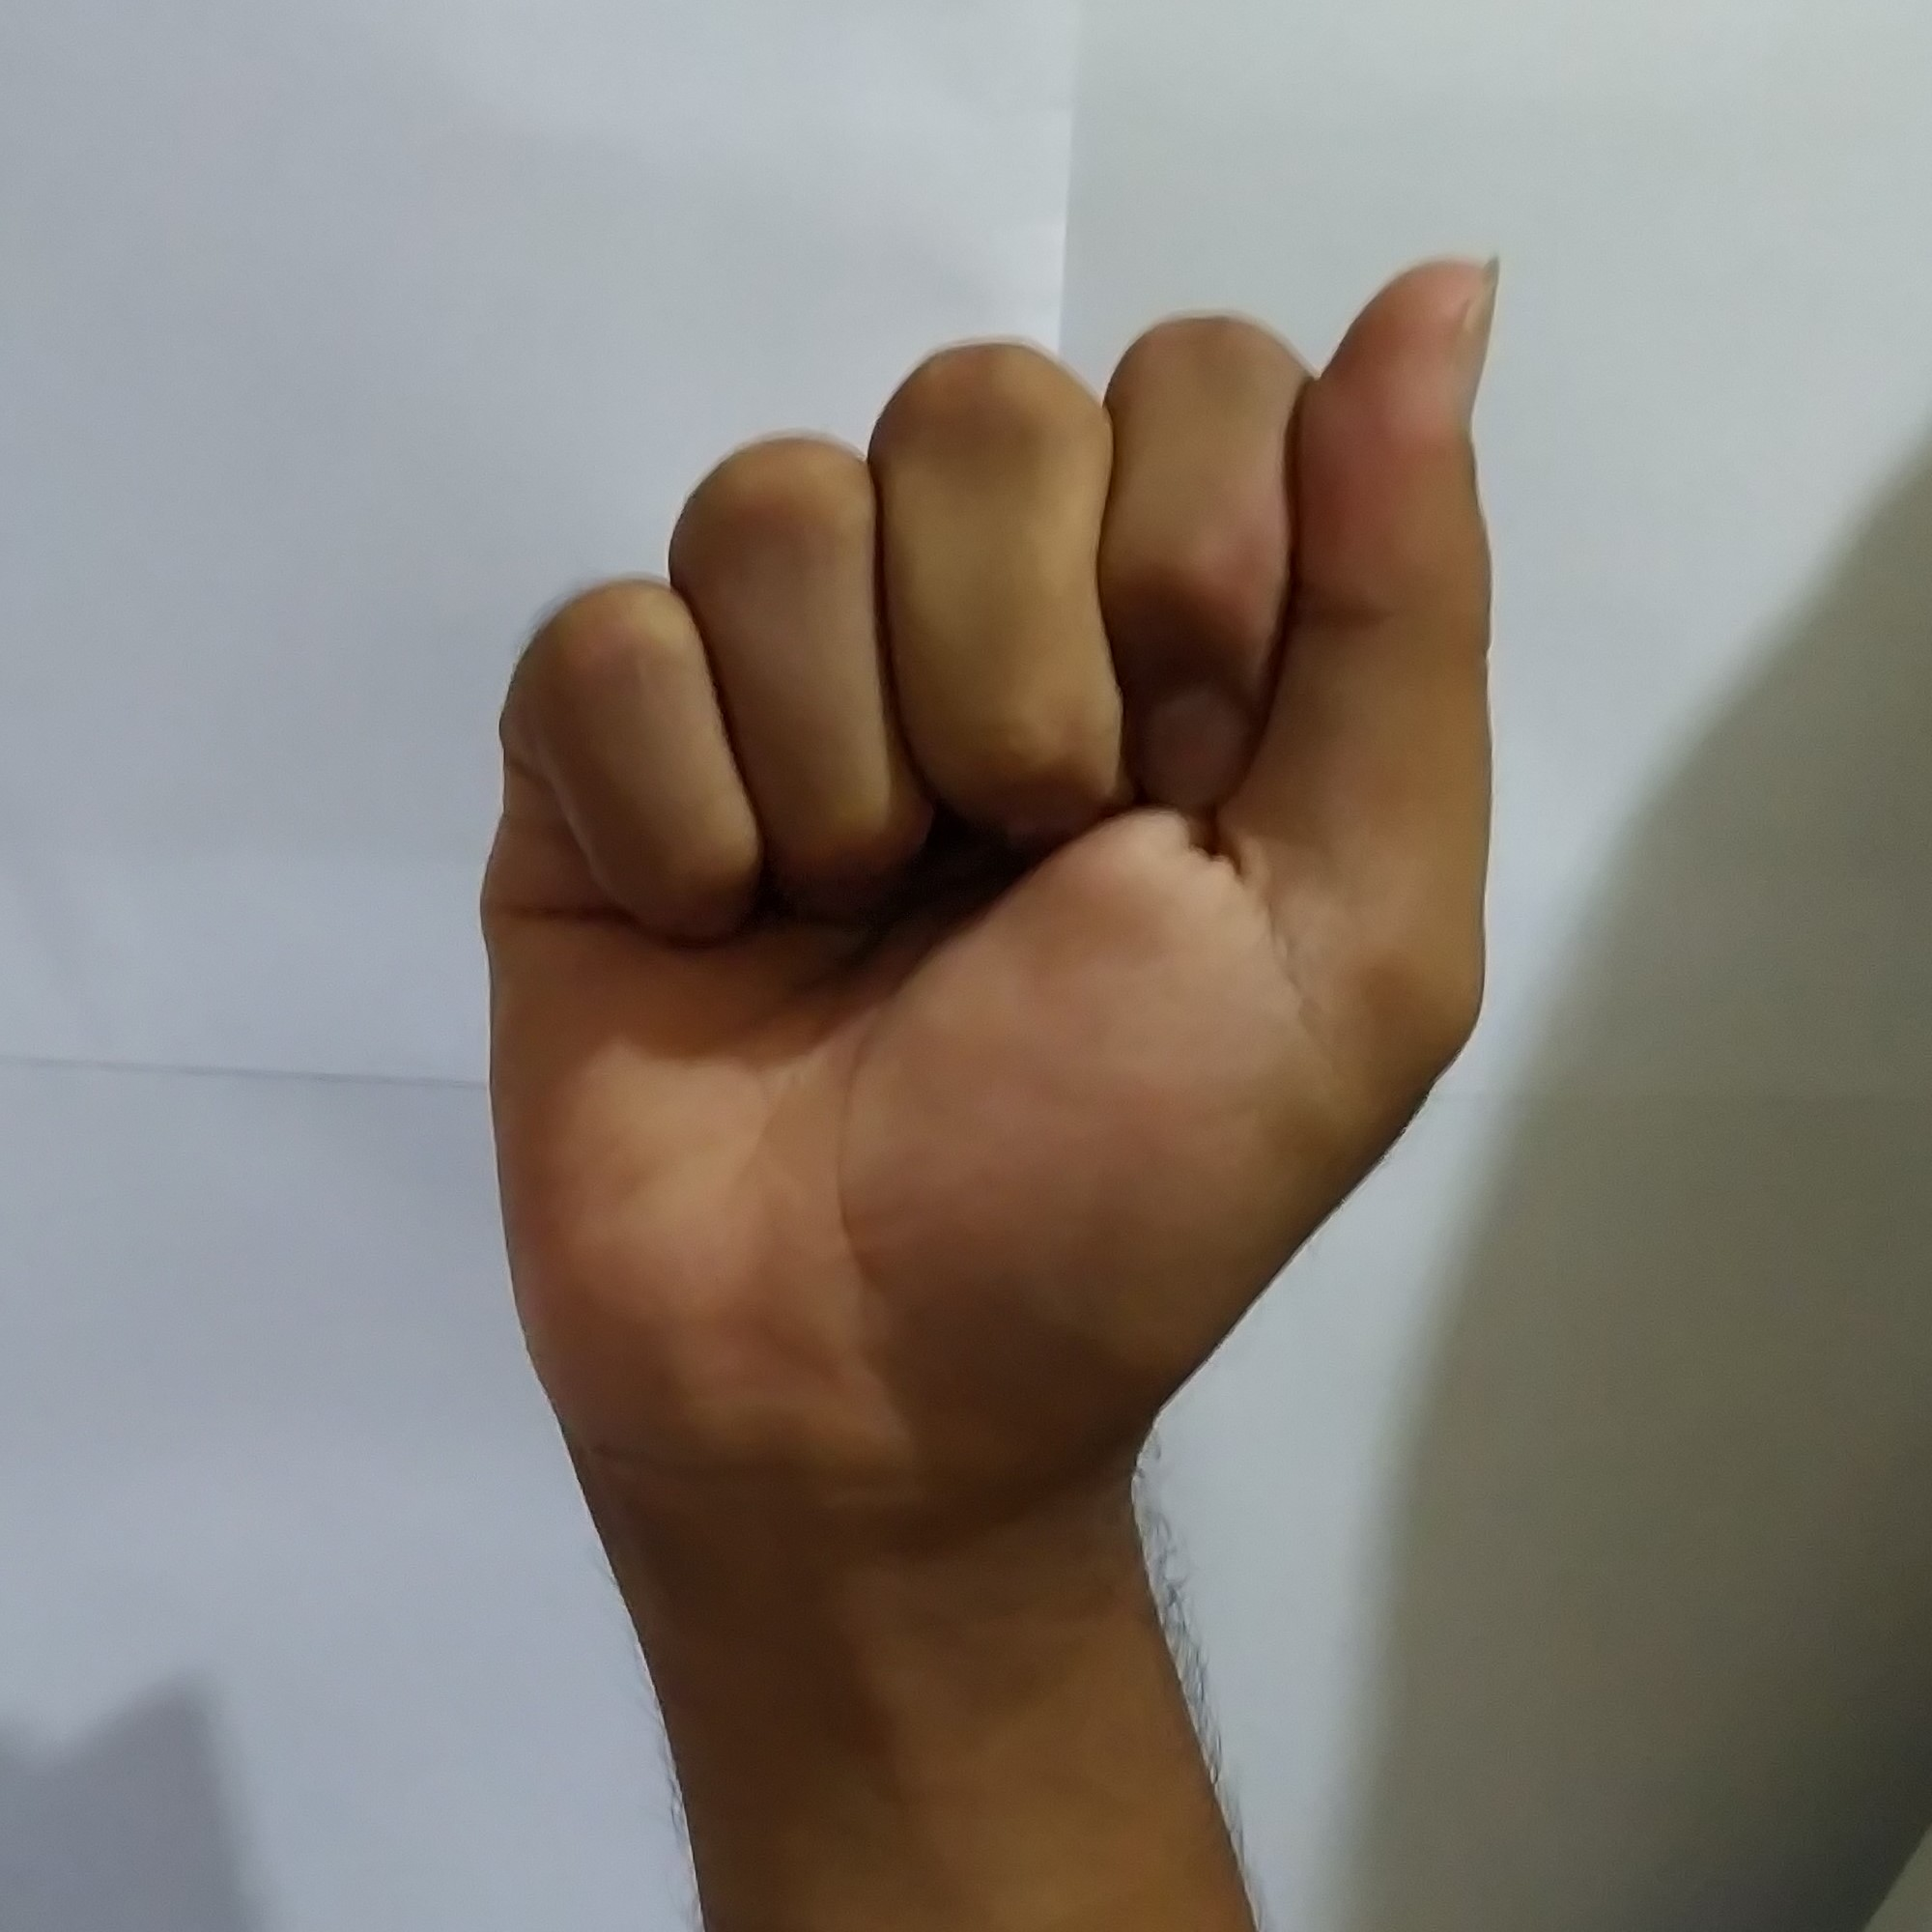A: (460, 234, 1534, 1511)
